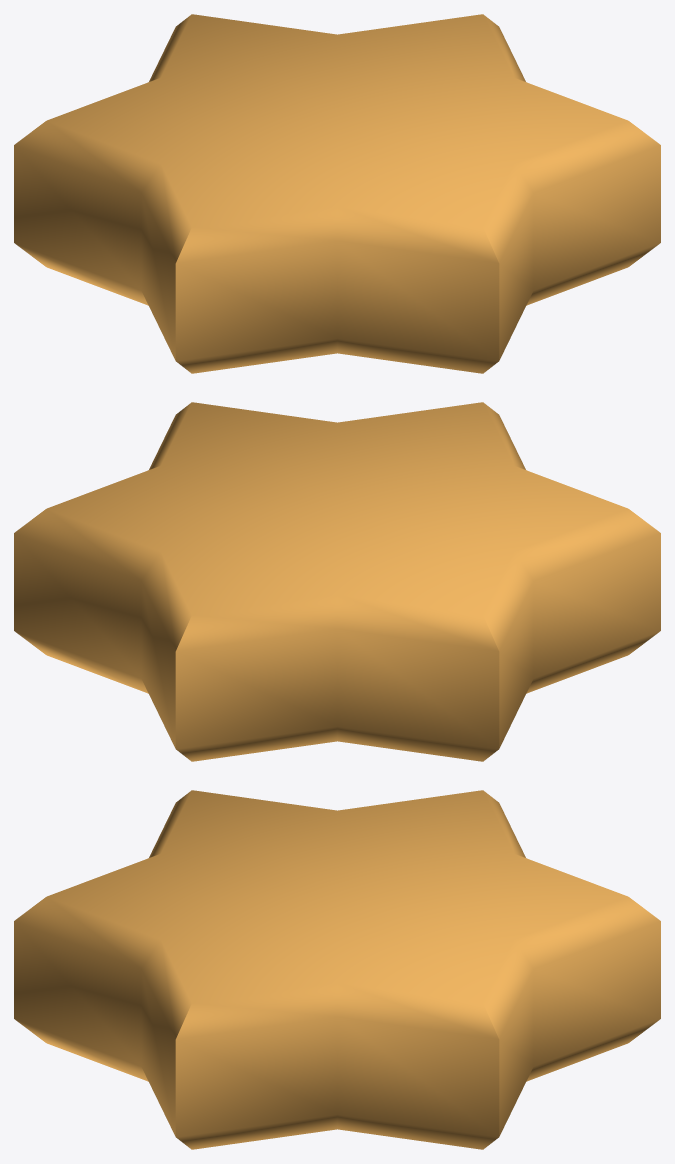
Rendered from Star_6P_03.fbx.
3 views of the same model, one above another, from view 1: azimuth 30°, elevation 25°; view 2: azimuth 150°, elevation 25°; view 3: azimuth 270°, elevation 25° (orthographic).
Visible parts, largest first — view 1: Star_6P_03; view 2: Star_6P_03; view 3: Star_6P_03.
Boxes of the visible parts, bbox=[...] form: Star_6P_03: bbox=[14, 14, 660, 373]; Star_6P_03: bbox=[14, 402, 660, 761]; Star_6P_03: bbox=[14, 790, 660, 1149].
Size of the model in its own units: 346 by 100 by 400.
